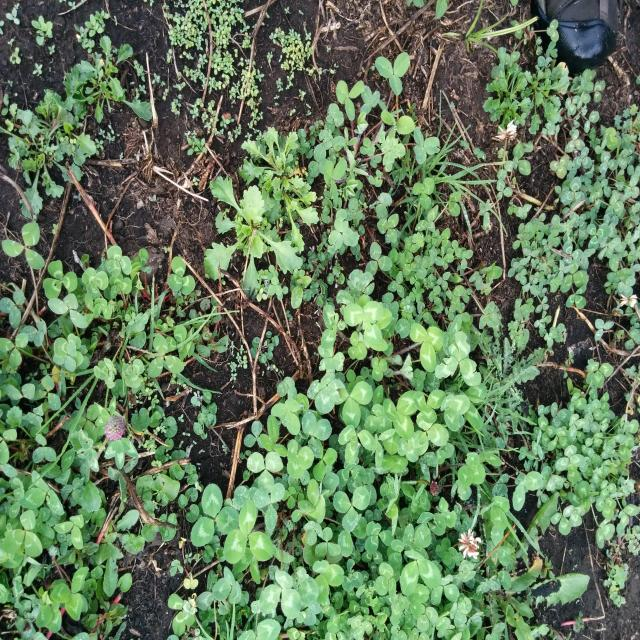Four Leaf Clover: (307, 373, 345, 414)
